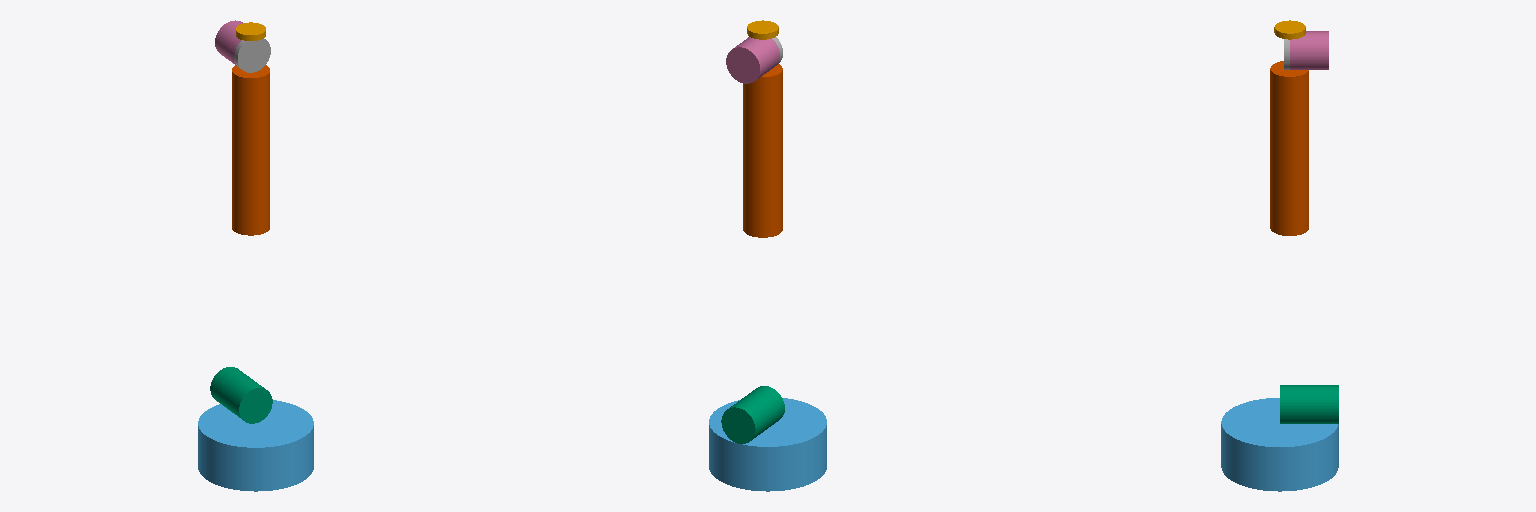
URDF robot description (restore):
<?xml version="1.0" ?>

<robot name="restore">

  <link name="base_link"/>

  <joint name="fixed" type="fixed">
    <parent link="base_link"/>
    <child link="link1"/>
  </joint>

  <link name="link1">

    <visual>
      <origin rpy="0 0 0" xyz="0 0 0"/>
      <geometry>
        <mesh filename="package://meshes_restore/link1.stl" scale="0.001 0.001 0.001"/>
      </geometry>
    </visual>

    <collision>
      <geometry>
        <mesh filename="package://meshes_restore/link1.stl" scale="0.001 0.001 0.001"/>
      </geometry>
      <origin rpy="0 0 0" xyz="0 0 0"/>
    </collision>

    <inertial>
      <mass value="30.0"/>
      <origin rpy="0 0 0" xyz="0 0 0"/>
      <inertia ixx="5" ixy="0.0" ixz="0.0" iyy="5" iyz="0.0" izz="20"/>
    </inertial>

  </link>

  <joint name="joint0" type="revolute">
    <parent link="link1"/>
    <child link="link2"/>
    <origin rpy="0 0 0" xyz="0 0 0.35"/>
    <axis xyz="0 0 1"/>
    <dynamics damping="10"/>
    <limit effort="1300" lower="-3" upper="3" velocity="0.2"/>
  </joint>

  <link name="link2">
    <visual>
      <origin rpy="-1.57 0 0" xyz="0 0 0"/>
      <geometry>
        <mesh filename="package://meshes_restore/link2.stl" scale="0.001 0.001 0.001"/>
      </geometry>
    </visual>

    <collision>
      <origin rpy="-1.57 0 0" xyz="0 0 0"/>
      <geometry>
        <mesh filename="package://meshes_restore/link2.stl" scale="0.001 0.001 0.001"/>
      </geometry>
    </collision>

    <inertial>
      <mass value="20"/>
      <origin rpy="1.57 0 0" xyz="0 0 0"/>
      <inertia ixx="0.3" ixy="0" ixz="0" iyy="0.1" iyz="0" izz="10"/>
    </inertial>

  </link>

  <joint name="joint1" type="revolute">
    <parent link="link2"/>
    <child link="link3"/>
    <origin rpy="1.57 0 0" xyz="0 0.25 0"/>
    <axis xyz="0 0 1"/>
    <dynamics damping="10"/>
    <limit effort="1300" lower="-3" upper="3" velocity="0.2"/>
  </joint>

  <link name="link3">

    <visual>
      <origin rpy="-1.57 0 0" xyz="0 0 0.0"/>
      <geometry>
        <mesh filename="package://meshes_restore/link3.stl" scale="0.001 0.001 0.001"/>
      </geometry>
    </visual>

    <collision>
      <origin rpy="-1.57 0 0" xyz="0 0 0.0"/>
      <geometry>
        <mesh filename="package://meshes_restore/link3.stl" scale="0.001 0.001 0.001"/>
      </geometry>
    </collision>

    <inertial>
      <mass value="15"/>
      <origin rpy="-1.57 0 0" xyz="0 0 0"/>
      <inertia ixx="0.2" ixy="0" ixz="0" iyy="0.1" iyz="0" izz="10"/>
    </inertial>

  </link>

  <joint name="joint2" type="revolute">
    <parent link="link3"/>
    <child link="link4"/>
    <origin rpy="-1.57 0 0" xyz="0 1 0"/>
    <axis xyz="0 0 1"/>
    <dynamics damping="5"/>
    <limit effort="500" lower="-3.1" upper="2.8" velocity="0.3"/>
  </joint>

  <link name="link4">

    <visual>
      <origin rpy="1.57 0 0" xyz="0 0 0"/>
      <geometry>
        <mesh filename="package://meshes_restore/link4.stl" scale="0.001 0.001 0.001"/>
      </geometry>
    </visual>

    <collision>
      <origin rpy="1.57 0 0" xyz="0 0 0"/>
      <geometry>
        <mesh filename="package://meshes_restore/link4.stl" scale="0.001 0.001 0.001"/>
      </geometry>
    </collision>

    <inertial>
      <mass value="15"/>
      <origin rpy="-1.57 0 0" xyz="0 0 0"/>
      <inertia ixx="2" ixy="0" ixz="0" iyy="0.1" iyz="0" izz="10"/>
    </inertial>

  </link>

  <joint name="joint3" type="revolute">
    <parent link="link4"/>
    <child link="link5"/>
    <origin rpy="1.57 0 0" xyz="0 -0.2 0"/>
    <axis xyz="0 0 1"/>
    <dynamics damping="1000"/>
    <limit effort="500" lower="-3.1" upper="2.7" velocity="0.3"/>

  </joint>

  <link name="link5">

    <visual>
      <origin rpy="-1.57 0 0" xyz="0 0 0.0"/>
      <geometry>
        <mesh filename="package://meshes_restore/link5.stl" scale="0.001 0.001 0.001"/>
      </geometry>
    </visual>

    <collision>
      <origin rpy="-1.57 0 0" xyz="0 0 0.0"/>
      <geometry>
        <mesh filename="package://meshes_restore/link5.stl" scale="0.001 0.001 0.001"/>
      </geometry>
    </collision>

    <inertial>
      <mass value="8"/>
      <origin rpy="-1.57 0 0" xyz="0 0 0"/>
      <inertia ixx="0.1" ixy="0" ixz="0" iyy="2" iyz="0" izz="3"/>
    </inertial>

  </link>

  <joint name="joint4" type="revolute">
    <parent link="link5"/>
    <child link="link6"/>
    <origin rpy="-1.57 0 0" xyz="0 1 0"/>
    <axis xyz="0 0 1"/>
    <dynamics damping="30"/>
    <limit effort="100" lower="-4." upper="1.5" velocity="0.400"/>
  </joint>

  <link name="link6">

    <visual>
      <origin rpy="-1.57 0 0" xyz="0 0.0 0"/>
      <geometry>
        <mesh filename="package://meshes_restore/link6.stl" scale="0.001 0.001 0.001"/>
      </geometry>
    </visual>

    <collision>
      <origin rpy="-1.57 0 0" xyz="0 0.0 0"/>
      <geometry>
        <mesh filename="package://meshes_restore/link6.stl" scale="0.001 0.001 0.001"/>
      </geometry>
    </collision>

    <inertial>
      <mass value="6"/>
      <origin rpy="1.57 0 0" xyz="0 0 0"/>
      <inertia ixx="1" ixy="0" ixz="0" iyy="1" iyz="0" izz="1"/>
    </inertial>

  </link>

  <joint name="joint5" type="revolute">
    <parent link="link6"/>
    <child link="link7"/>
    <origin rpy="1.57 0 0" xyz="0 0 0"/>
    <axis xyz="0 0 1"/>
    <dynamics damping="30"/>
    <limit effort="100" lower="-3" upper="3" velocity="0.5"/>
  </joint>

  <link name="link7">
    <visual>
      <origin rpy="0 0 0" xyz="0 0 0"/>
      <geometry>
        <mesh filename="package://meshes_restore/link7.stl" scale="0.001 0.001 0.001"/>
      </geometry>
    </visual>

    <inertial>
      <mass value="4"/>
      <origin rpy="-1.57 0 0" xyz="0 0 0"/>
      <inertia ixx="0.03" ixy="0" ixz="0" iyy="1" iyz="0" izz="1"/>
    </inertial>

  </link>

  <joint name="joint6" type="revolute">
    <parent link="link7"/>
    <child link="link8"/>
    <origin rpy="-1.57 0 0" xyz="0 0.2 0"/>
    <axis xyz="0 0 1"/>
    <dynamics damping="15"/>
    <limit effort="70" lower="-4.5" upper="1.2" velocity="0.4"/>
  </joint>

  <link name="link8">

    <visual>
      <origin rpy="3.14 0 0" xyz="0 0 -.065"/>
      <geometry>
        <mesh filename="package://meshes_restore/link8.stl" scale="0.001 0.001 0.001"/>
      </geometry>
    </visual>

    <inertial>
      <mass value="4"/>
      <origin rpy="0 0 0" xyz="0 0 0"/>
      <inertia ixx="0.03" ixy="0" ixz="0" iyy="0.03" iyz="0" izz="1"/>
    </inertial>

  </link>

</robot>

--- Facts derived from the render (not from the file) ---
The picture shows the robot from 3 angles, left to right: view 1: azimuth 30°, elevation 25°; view 2: azimuth 150°, elevation 25°; view 3: azimuth 270°, elevation 25°; orthographic projection.
Robot: restore — 9 links, 8 joints (7 revolute, 1 fixed); root link base_link; default pose: every joint at zero.
Links seen in each view (by area): view 1: link1, link5, link2, link7, link6; view 2: link1, link5, link2, link6; view 3: link1, link5, link2, link6.
Link boxes in pixels (box(x1,y1,x2,y2)): link1: box(198, 400, 313, 491); link5: box(232, 65, 269, 235); link2: box(210, 367, 272, 423); link7: box(234, 39, 270, 72); link6: box(215, 20, 242, 66); link1: box(709, 398, 826, 491); link5: box(743, 64, 782, 237); link2: box(721, 386, 784, 443); link6: box(726, 37, 779, 83); link1: box(1221, 398, 1338, 491); link5: box(1270, 61, 1308, 235); link2: box(1280, 385, 1338, 423); link6: box(1290, 31, 1328, 69).
Bounding box of the posed robot: 0.6 × 0.6001 × 2.49 m (x, y, z).
Meshes: 8 distinct files referenced, 6 mesh visuals loaded (6 binary STL); not drawn: 2 (reference not matched to a file when rendering).